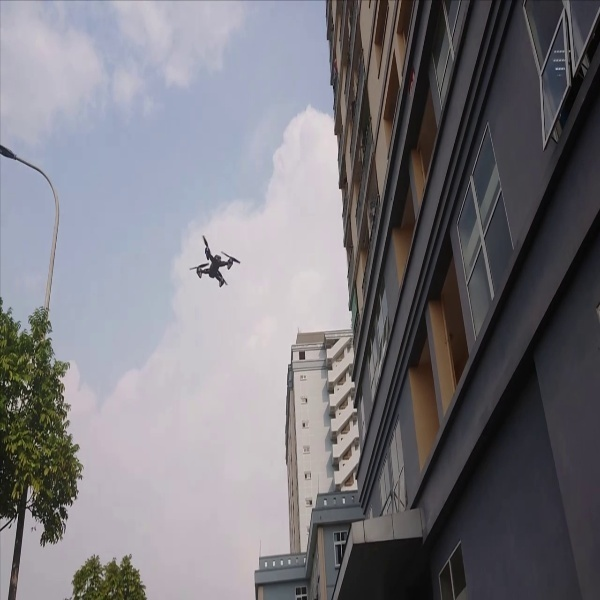drone: (181, 225, 247, 297)
